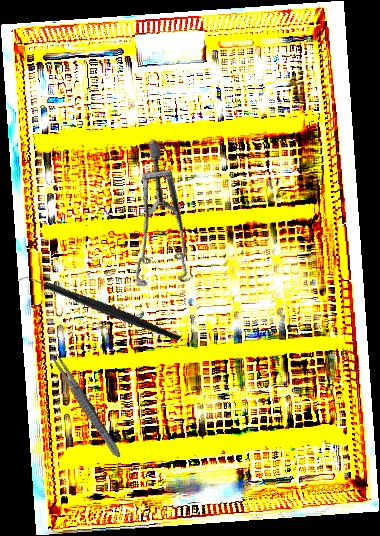Chopper: (13, 228, 183, 392)
Dressing Forceps: (45, 347, 125, 461)
Speculum: (86, 139, 241, 307)
